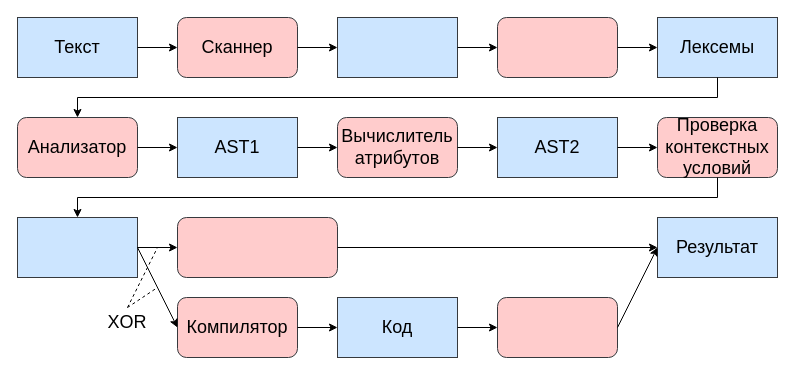
Some shapes in this 795 by 375 pixel diagram are drawn without their labels. Here are the shapes that lost their labels. From the top down, the centre of each, then its label:
At point 397,47: "Токены".
At point 557,47: "Послесканнер".
At point 77,247: "AST3".
At point 257,247: "Интерпретатор".
At point 557,327: "Исполнитель".
